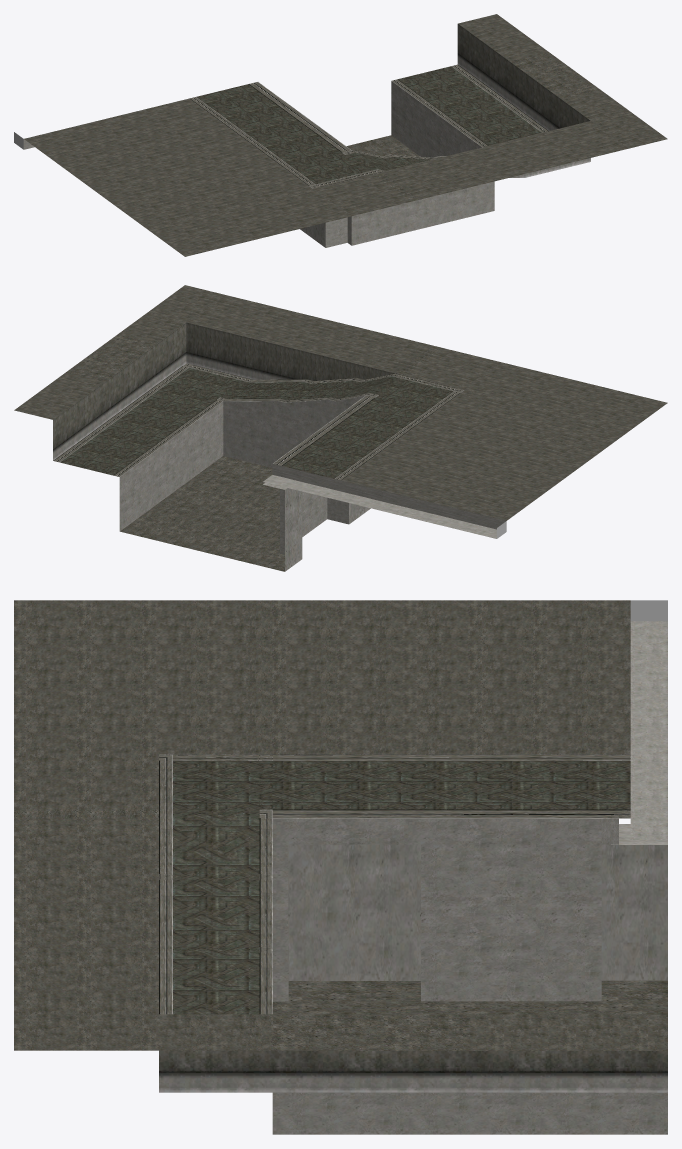
The model's file is DWARF_PALACE_GEAR_ROOM_FLOORB.obj.
3 renders of one model, top to bottom at view 1: azimuth 30°, elevation 25°; view 2: azimuth 150°, elevation 25°; view 3: azimuth 270°, elevation 25°, orthographic. The views are drawn at different scales.
Visible parts, largest first — view 1: ear_room_floorB; view 2: ear_room_floorB; view 3: ear_room_floorB.
Part boxes in pixels (left/top/right/bottom): ear_room_floorB: left=14, top=14, right=667, bottom=256; ear_room_floorB: left=14, top=285, right=667, bottom=571; ear_room_floorB: left=14, top=600, right=667, bottom=1134.
Size of the model in its own units: 3700 by 700 by 2270.
